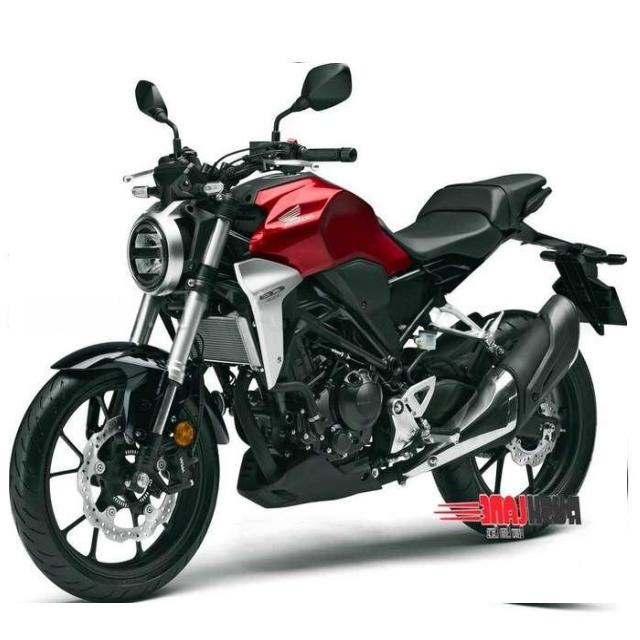motorcycle: (10, 63, 627, 603)
